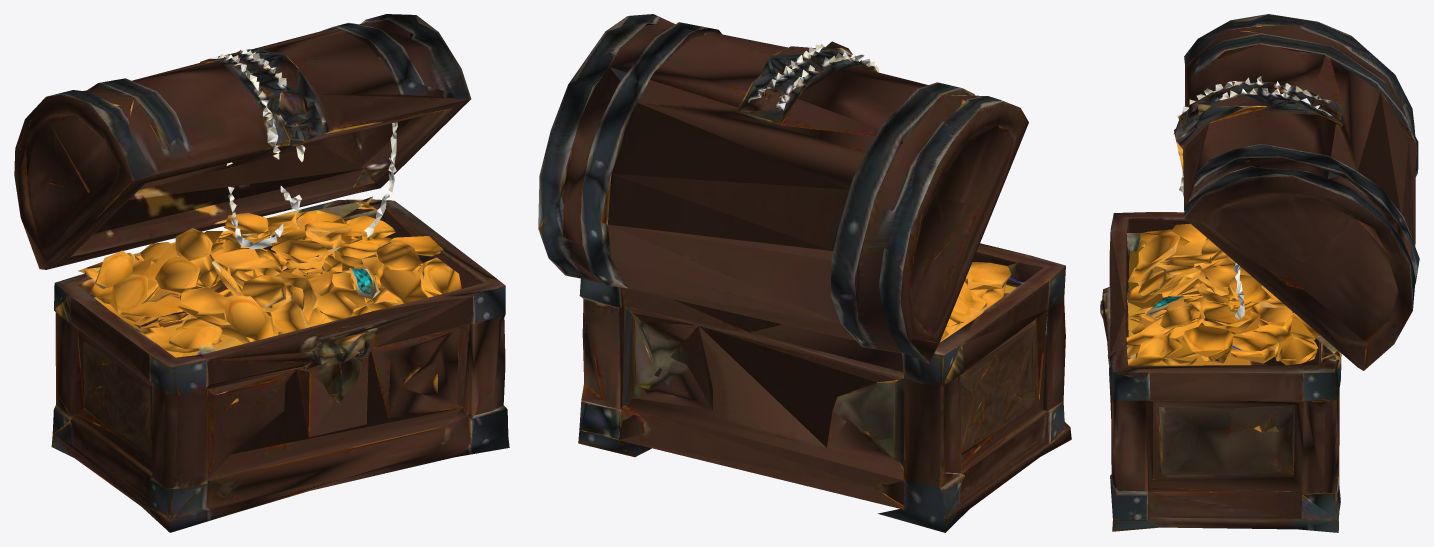
Rendered from chest_gold.glb.
3 renders of one model, left to right at view 1: azimuth 30°, elevation 25°; view 2: azimuth 150°, elevation 25°; view 3: azimuth 270°, elevation 25°, orthographic. The views are drawn at different scales.
Visible parts, largest first — view 1: chest_gold; view 2: chest_gold; view 3: chest_gold.
Boxes of the visible parts, <box> form: chest_gold: <box>14,14,509,532</box>; chest_gold: <box>538,14,1071,532</box>; chest_gold: <box>1100,14,1419,532</box>.
Bounding box in the file's own units: 1.15 × 1.2 × 0.9489.
Materials: 1 (1 with a texture image).
